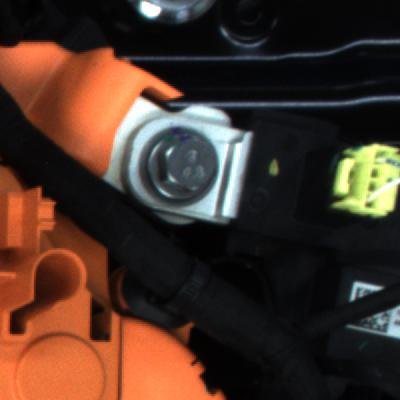nut_b: (126, 119, 235, 216)
